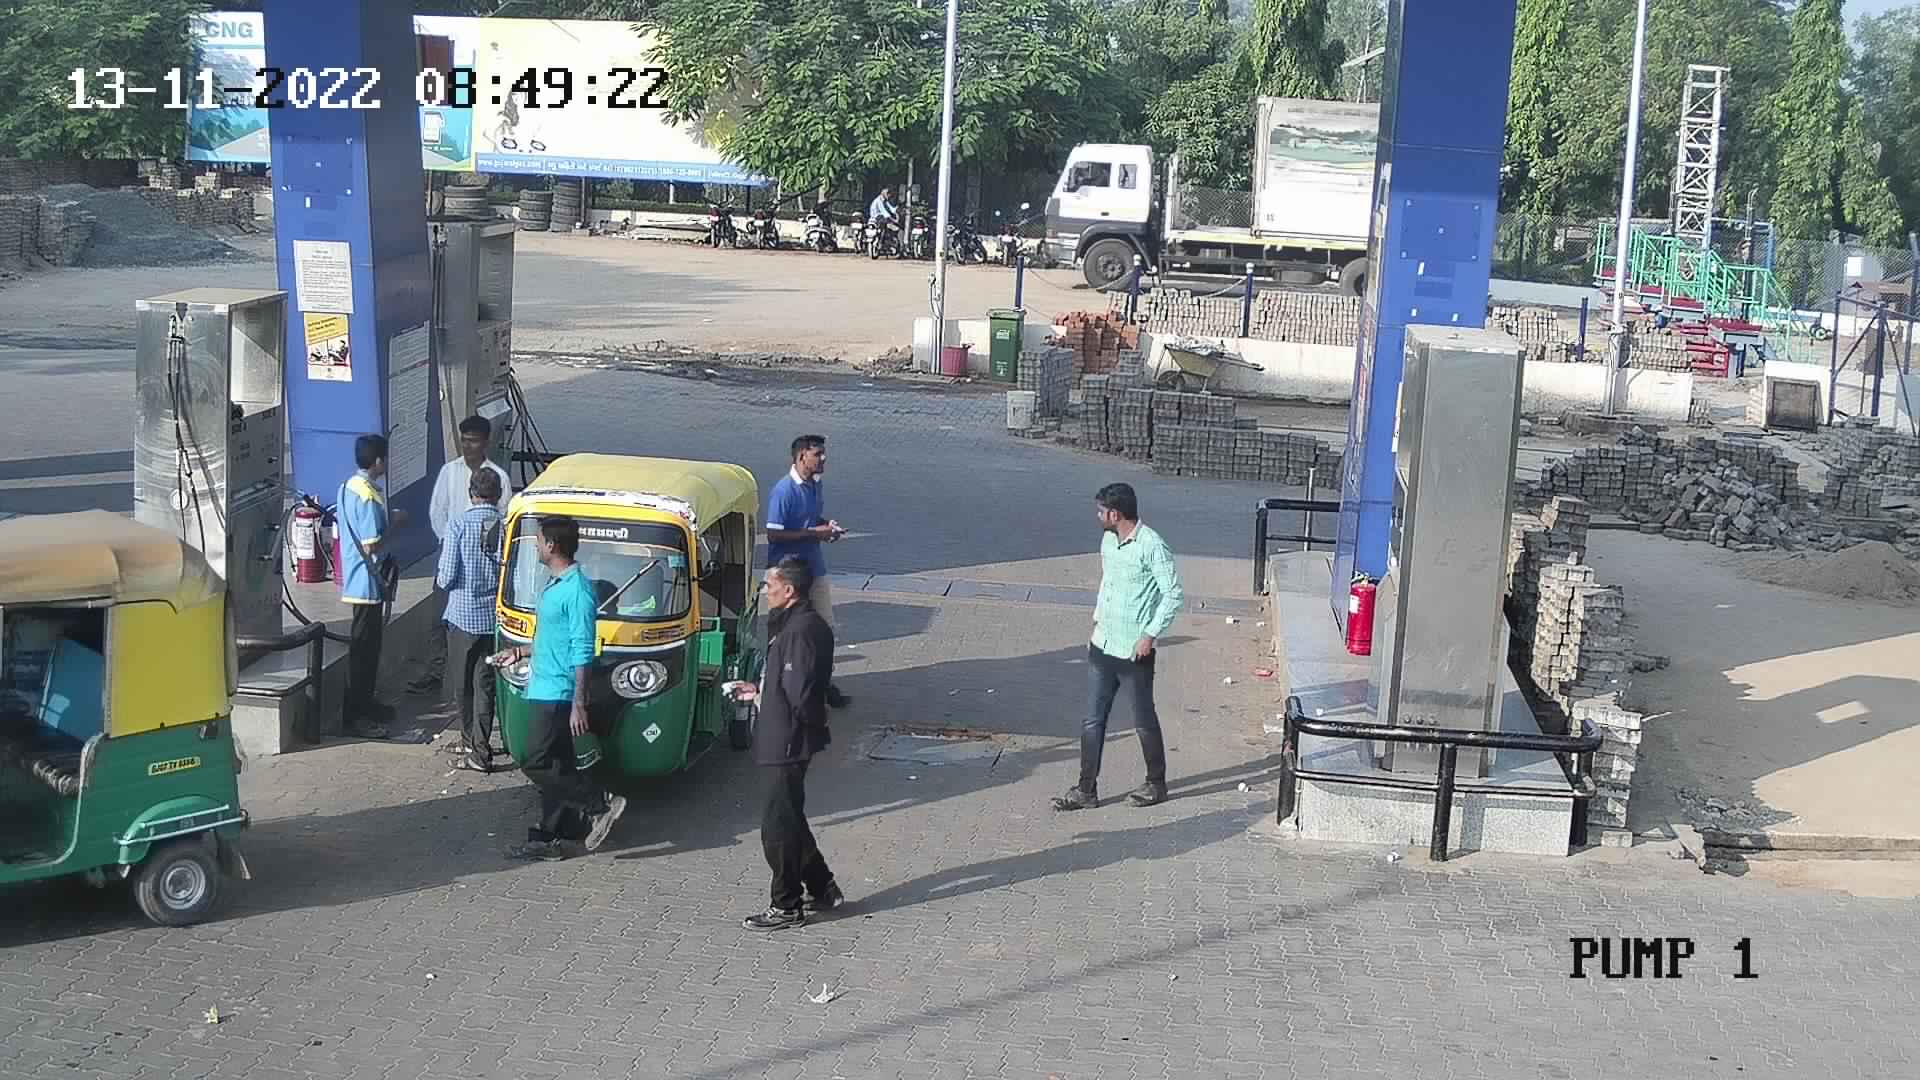Auto: (1, 493, 258, 965), (480, 430, 758, 814)
Bike: (837, 182, 903, 255), (936, 193, 989, 266), (694, 182, 746, 255), (990, 191, 1036, 272), (791, 185, 845, 253), (899, 181, 938, 266), (746, 186, 795, 252)
HMV: (1031, 88, 1390, 305)
Others: (319, 422, 409, 749)
